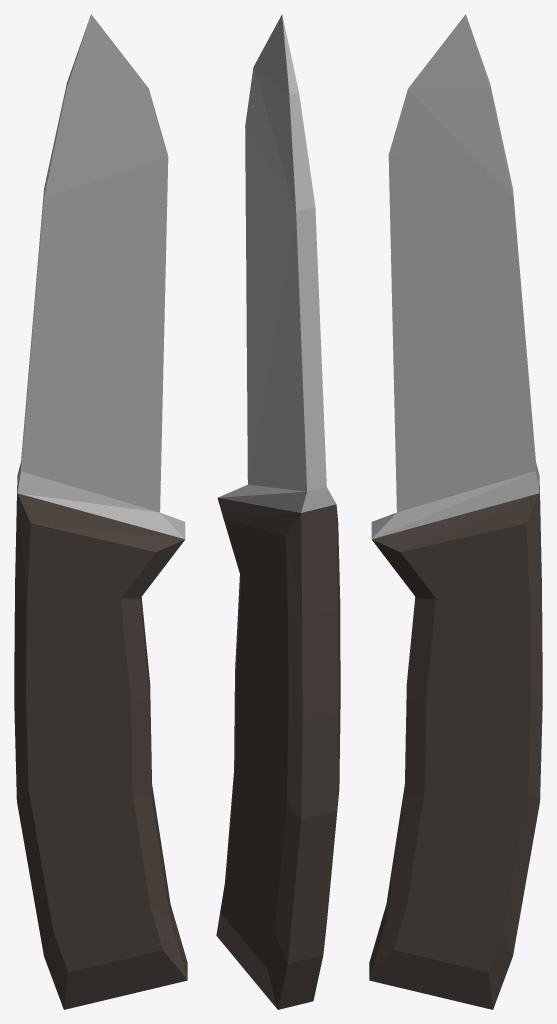
File: Knife.fbx
The picture shows the model from 3 angles, left to right: view 1: azimuth 90°, elevation 25°; view 2: azimuth 210°, elevation 25°; view 3: azimuth 270°, elevation 25°; orthographic projection.
Visible parts, largest first — view 1: Knife; view 2: Knife; view 3: Knife.
Boxes of the visible parts, x1,y1,x2,y2 form: Knife: (14,14,187,1009); Knife: (216,14,340,1009); Knife: (369,14,542,1009).
Bounding box in the file's own units: 1.07 × 19.22 × 3.06.
Materials: 1 (1 with a texture image).
